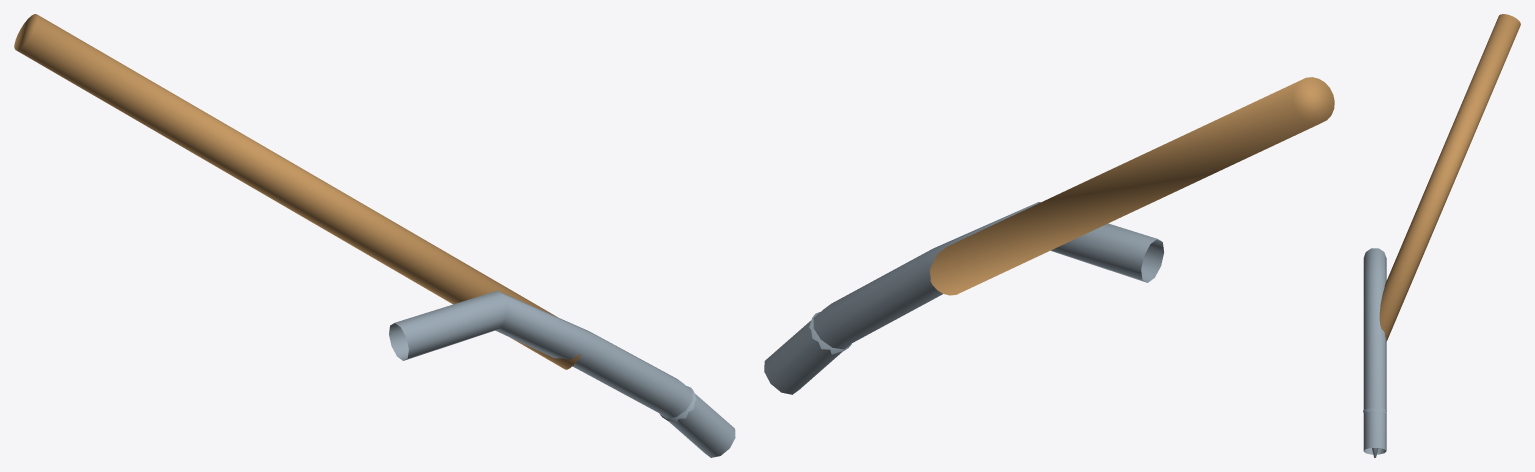
File: steenhouwer_slaan_gereedschap.glb
The picture shows the model from 3 angles, left to right: view 1: azimuth 30°, elevation 25°; view 2: azimuth 150°, elevation 25°; view 3: azimuth 270°, elevation 25°; orthographic projection. The views are drawn at different scales.
Parts seen in each view (by area): view 1: Pickaxe_wooden_haft, Pickaxe_steel_head; view 2: Pickaxe_wooden_haft, Pickaxe_steel_head; view 3: Pickaxe_wooden_haft, Pickaxe_steel_head.
Boxes of the visible parts, <box> form: Pickaxe_wooden_haft: <box>14,14,580,369</box>; Pickaxe_steel_head: <box>389,290,735,457</box>; Pickaxe_wooden_haft: <box>930,77,1334,295</box>; Pickaxe_steel_head: <box>764,202,1164,394</box>; Pickaxe_wooden_haft: <box>1379,14,1520,341</box>; Pickaxe_steel_head: <box>1363,248,1386,454</box>.
Bounding box in the file's own units: 0.8332 × 0.6519 × 0.3284.
